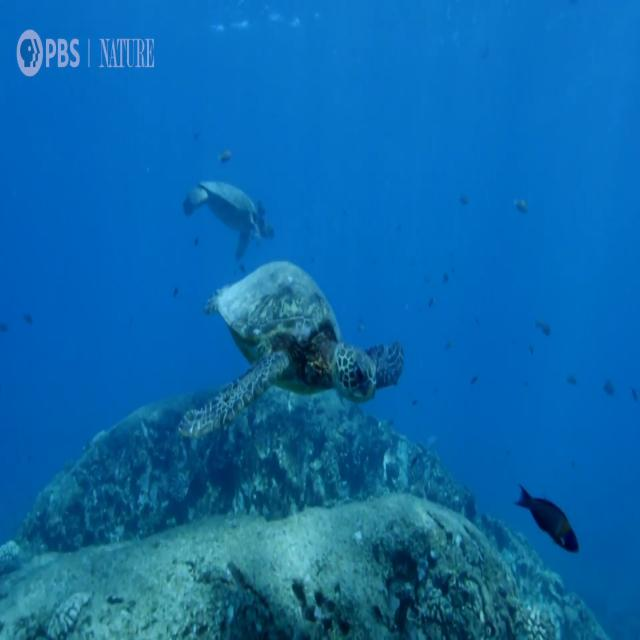Green-Sea-Turtle -Endangered-: (180, 258, 403, 433), (182, 178, 274, 257)
